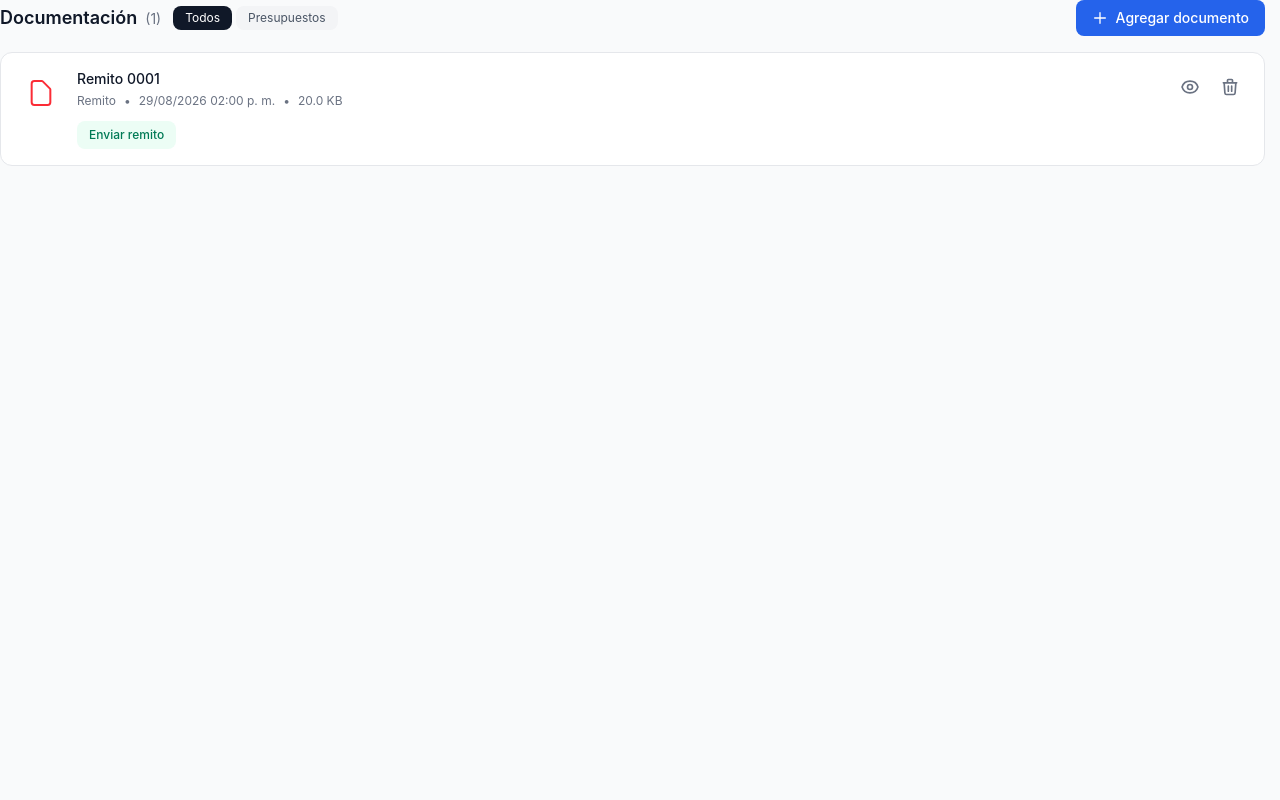
Test: LeadDocumentationTab — remito delivery › sends WhatsApp, creates the remito record with leadId, reloads remitos and shows the "Enviado" badge
Step 1. Click the button "Enviar remito" → (127, 135), box x1=77 y1=121 x2=176 y2=149
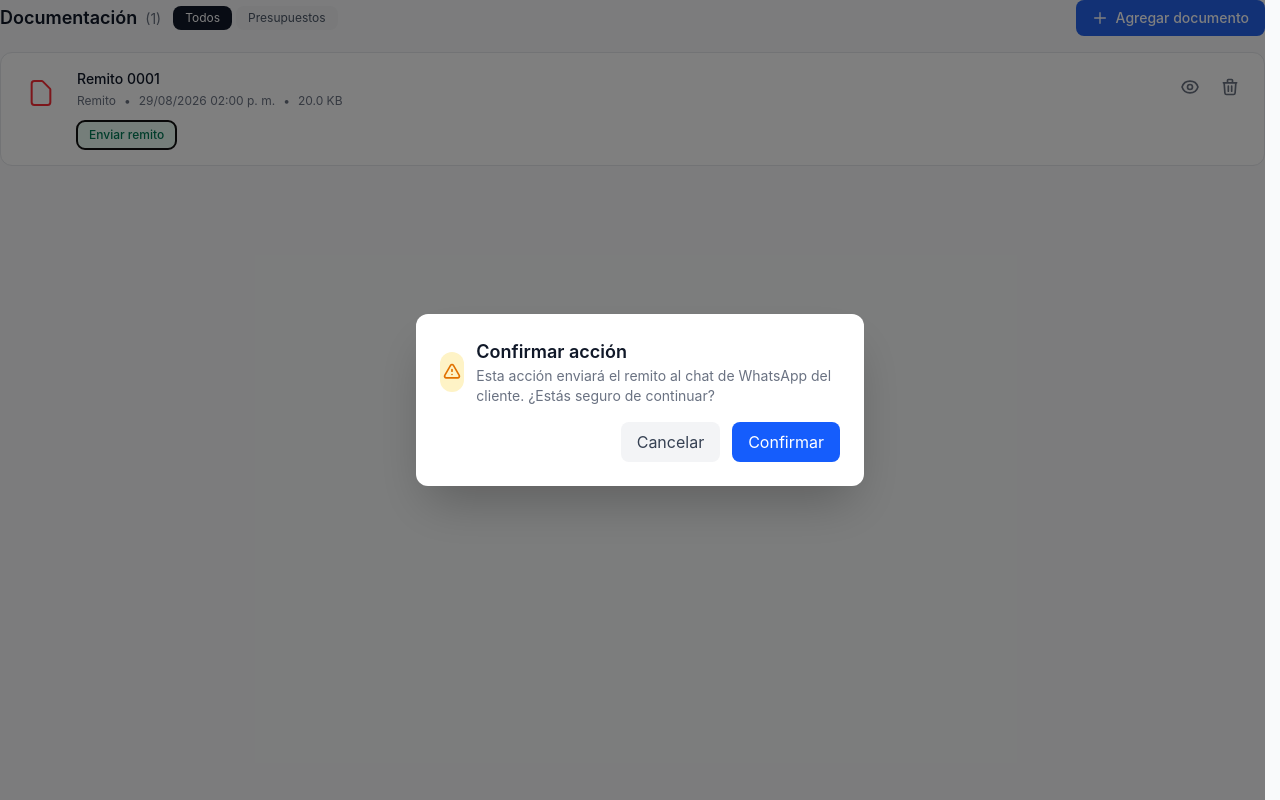
Step 2. Click the button "Confirmar" → (786, 442), box x1=732 y1=422 x2=840 y2=462
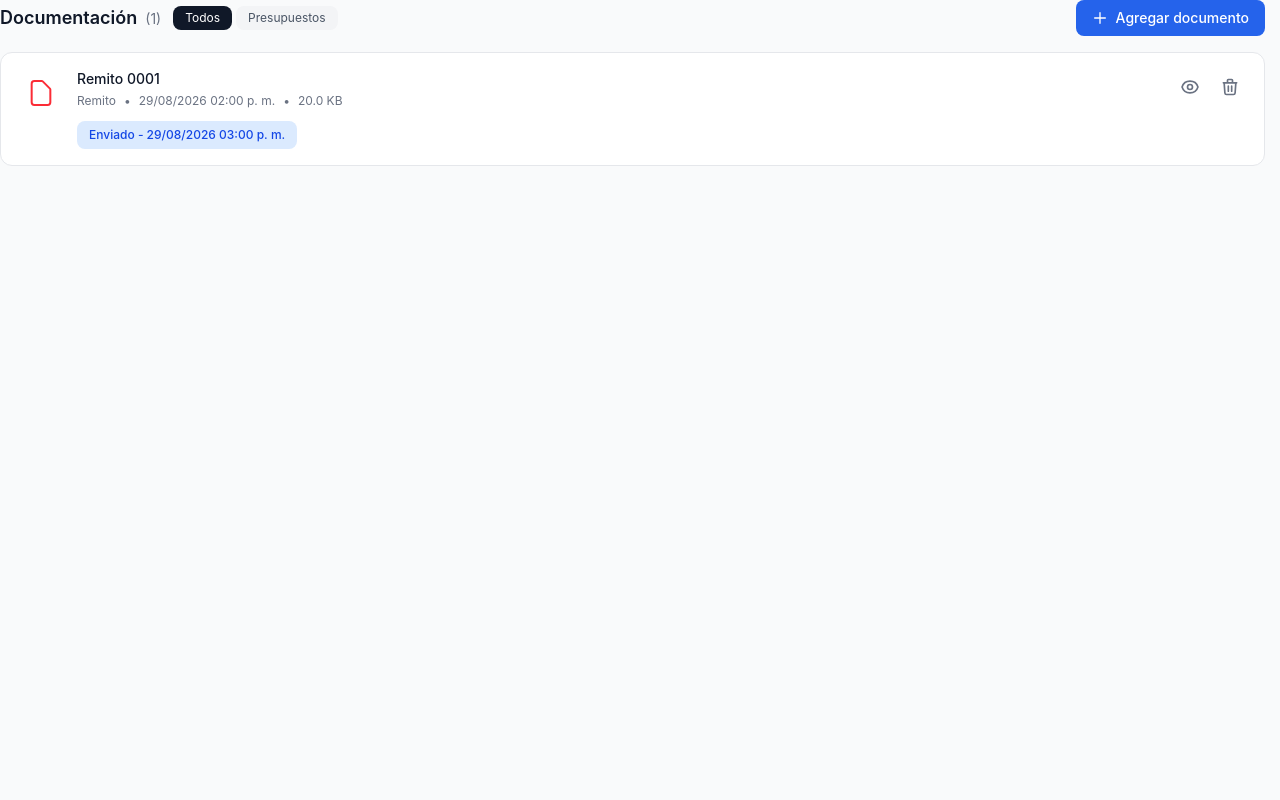
Result: the text "Enviado - 29/08/2026 03:00 p. m." is shown at x1=77 y1=121 x2=297 y2=149
